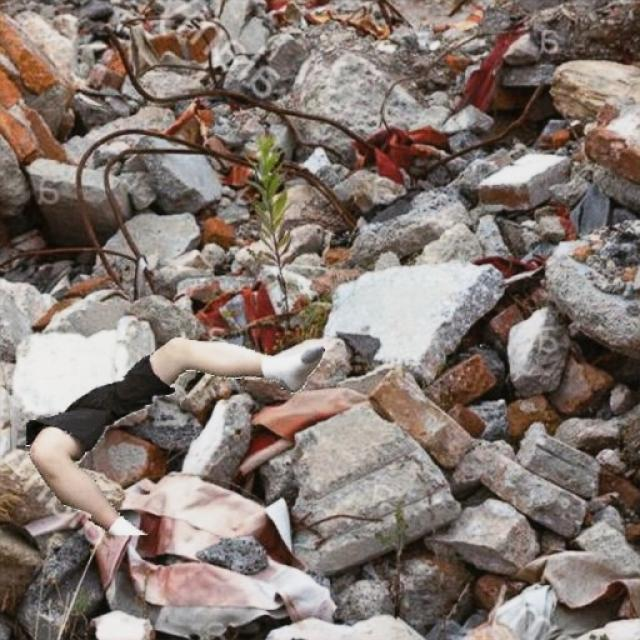Person in Rubble: (26, 338, 324, 534)
